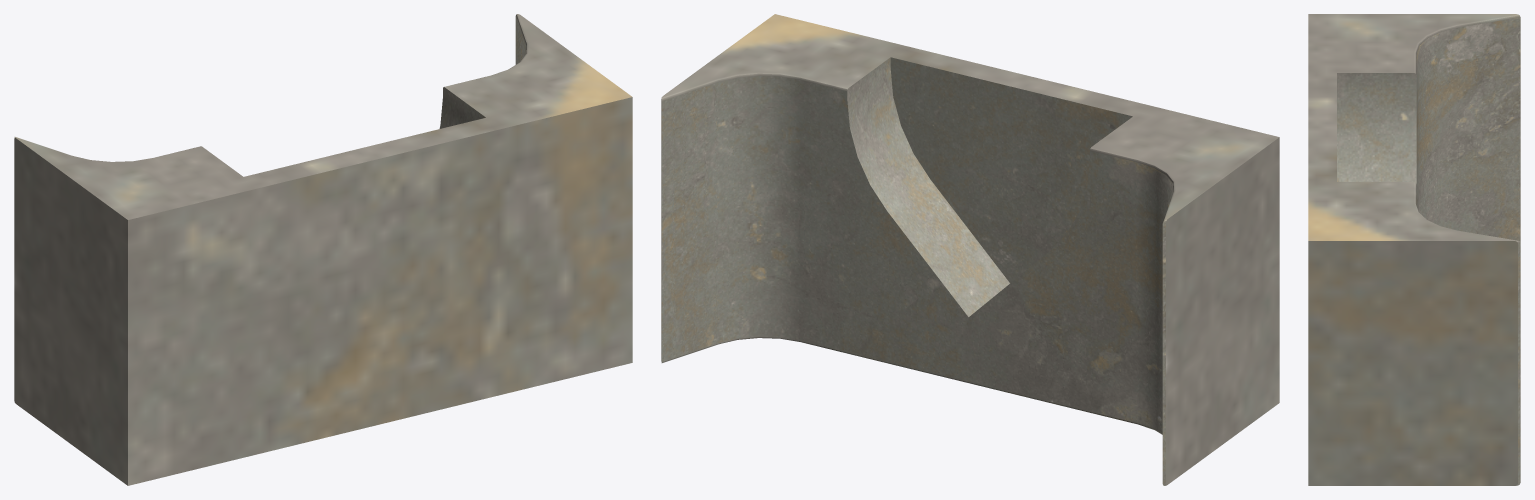
File: SM_CorridorBlock_FullM_EndBisest.fbx
3 views of the same model, side by side, from view 1: azimuth 30°, elevation 25°; view 2: azimuth 150°, elevation 25°; view 3: azimuth 270°, elevation 25° (orthographic). The views are drawn at different scales.
Visible parts, largest first — view 1: SM_CorridorBlock_FullM_EndBisest_LOD0; view 2: SM_CorridorBlock_FullM_EndBisest_LOD0; view 3: SM_CorridorBlock_FullM_EndBisest_LOD0.
Part boxes in pixels (x1,y1,x2,y2): SM_CorridorBlock_FullM_EndBisest_LOD0: [14, 14, 632, 485]; SM_CorridorBlock_FullM_EndBisest_LOD0: [661, 14, 1279, 485]; SM_CorridorBlock_FullM_EndBisest_LOD0: [1308, 14, 1520, 485].
Size of the model in its own units: 99.34 by 39.23 by 50.
1 material, 1 textured.
